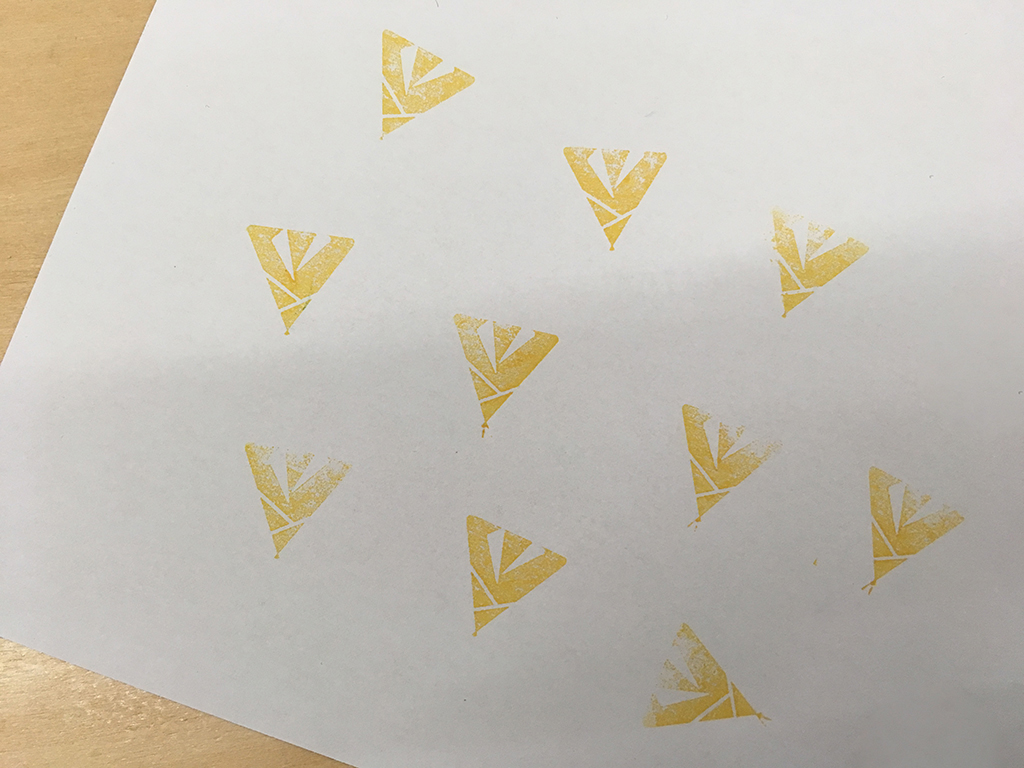tent: (857, 456, 976, 602), (442, 309, 570, 443), (636, 617, 780, 732), (675, 398, 793, 536), (240, 441, 360, 576), (366, 21, 482, 152), (763, 202, 880, 330), (458, 512, 572, 642), (556, 139, 673, 256), (244, 222, 356, 344)
